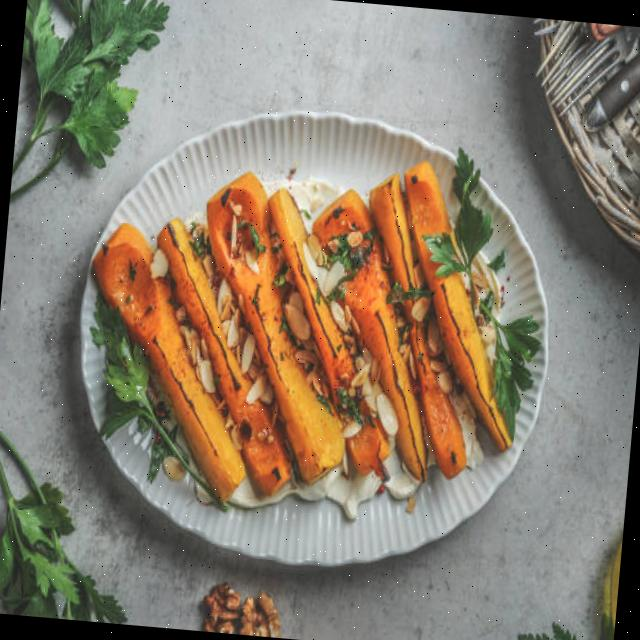pumpkin: (207, 171, 344, 483), (92, 224, 245, 501), (157, 218, 290, 493), (312, 190, 426, 479), (404, 160, 512, 451), (269, 188, 353, 402), (410, 323, 465, 478), (369, 173, 419, 290)
